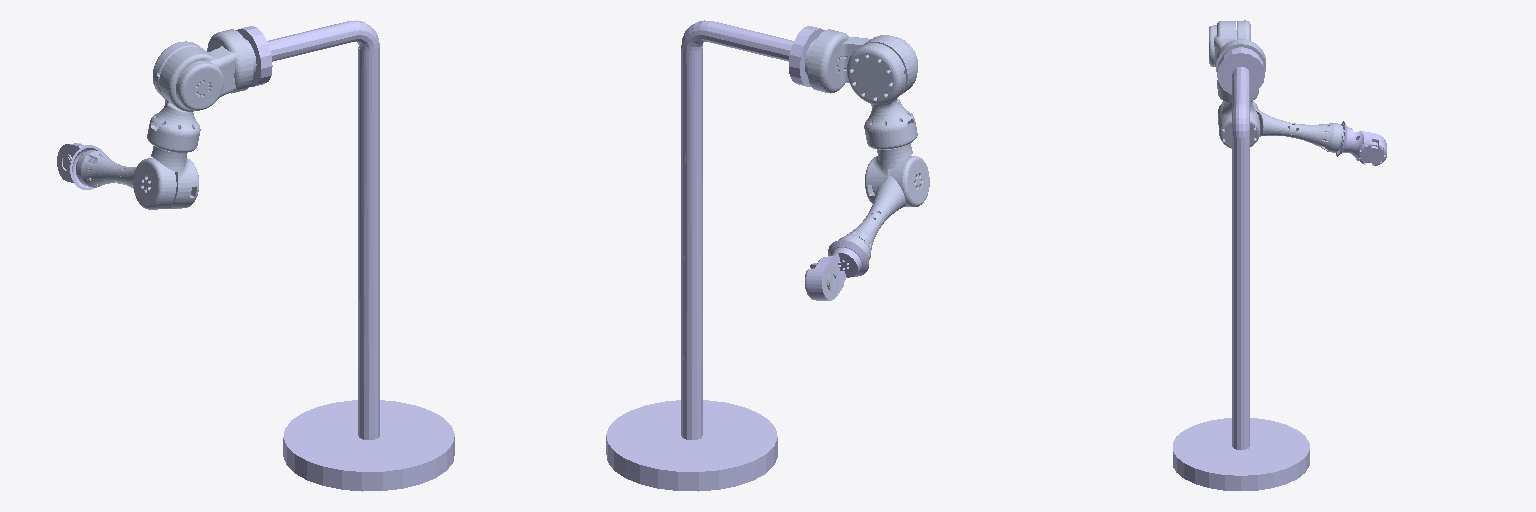
URDF robot description (humanoid_arm_5dof):
<?xml version="1.0" encoding="utf-8"?>
<robot name="humanoid_arm_5dof">
  <link name="base_link">
    <inertial>
      <origin
        xyz="-0.024994 0 0.26232"
        rpy="0 0 0" />
      <mass
        value="400" />
      <inertia
        ixx="1.5195"
        ixy="1.3429E-18"
        ixz="0.19574"
        iyy="1.5765"
        iyz="-8.9523E-18"
        izz="0.18464" />
    </inertial>
    <visual>
      <origin
        xyz="0 0 0"
        rpy="0 0 0" />
      <geometry>
        <mesh
          filename="package://humanoid_arm_5dof/meshes/suport.STL" />
      </geometry>
      <material
        name="">
        <color
          rgba="0.82353 0.82353 1 1" />
      </material>
    </visual>
    <collision>
      <origin
        xyz="0 0 0"
        rpy="0 0 0" />
      <geometry>
        <mesh
          filename="package://humanoid_arm_5dof/meshes/suport.STL" />
      </geometry>
    </collision>
  </link>
  <link name="shoulder_motor_link">
    <inertial>
      <origin
        xyz="0.0243243517152052 0 0"
        rpy="0 0 0" />
      <mass
        value="0.532509536641061" />
      <inertia
        ixx="0.000896146800566172"
        ixy="7.65326457438951E-19"
        ixz="5.78067703056341E-21"
        iyy="0.000557965001798214"
        iyz="-2.71050543121376E-20"
        izz="0.000557965001798214" />
    </inertial>
    <visual>
      <origin
        xyz="0 0 0"
        rpy="0 0 0" />
      <geometry>
        <mesh
          filename="package://humanoid_arm_5dof/meshes/pmotor1.STL" />
      </geometry>
      <material
        name="">
        <color
          rgba="0.792156862745098 0.819607843137255 0.933333333333333 1" />
      </material>
    </visual>
    <collision>
      <origin
        xyz="0 0 0"
        rpy="0 0 0" />
      <geometry>
        <mesh
          filename="package://humanoid_arm_5dof/meshes/pmotor1.STL" />
      </geometry>
    </collision>
  </link>
  <joint name="shoulder_motor_mount_joint" type="fixed">
    <origin
      xyz="-0.3827 0 1.0987"
      rpy="0.018231 0 0" />
    <parent link="base_link"/>
    <child link="shoulder_motor_link"/>
    <axis
      xyz="0 0 0" />
  </joint>
  <link name="upper_arm_link">
    <inertial>
      <origin
        xyz="-0.0509057984087349 -0.0396720299469153 -4.4229364353221E-06"
        rpy="0 0 0" />
      <mass
        value="1.20124643575938" />
      <inertia
        ixx="0.00348505331685035"
        ixy="-0.00165216394353781"
        ixz="2.67939253448173E-07"
        iyy="0.00605759008406016"
        iyz="1.08709312370402E-07"
        izz="0.00617091360181918" />
    </inertial>
    <visual>
      <origin
        xyz="0 0 0"
        rpy="0 0 0" />
      <geometry>
        <mesh
          filename="package://humanoid_arm_5dof/meshes/umar1.STL" />
      </geometry>
      <material
        name="">
        <color
          rgba="0.792156862745098 0.819607843137255 0.933333333333333 1" />
      </material>
    </visual>
    <collision>
      <origin
        xyz="0 0 0"
        rpy="0 0 0" />
      <geometry>
        <mesh
          filename="package://humanoid_arm_5dof/meshes/umar1.STL" />
      </geometry>
    </collision>
  </link>
  <joint name="base_rotation_joint" type="revolute">
    <origin
      xyz="-0.0175 0 0"
      rpy="0 0 0" />
    <parent link="shoulder_motor_link"/>
    <child link="upper_arm_link"/>
    <axis
      xyz="1 0 0" />
    <limit
      lower="-3.14"
      upper="3.14"
      effort="120"
      velocity="3" />
    <safety_controller
      soft_upper_limit="3.14"
      soft_lower_limit="-3.14"
      k_velocity="0" />
  </joint>
  <link name="shoulder_pitch_motor_link">
    <inertial>
      <origin
        xyz="0 0.0243243517152051 4.44089209850063E-16"
        rpy="0 0 0" />
      <mass
        value="0.532509536641061" />
      <inertia
        ixx="0.000557965001798215"
        ixy="-1.24833103737913E-19"
        ixz="-3.47612311997922E-20"
        iyy="0.000896146800566172"
        iyz="-4.40457132572236E-20"
        izz="0.000557965001798215" />
    </inertial>
    <visual>
      <origin
        xyz="0 0 0"
        rpy="0 0 0" />
      <geometry>
        <mesh
          filename="package://humanoid_arm_5dof/meshes/pmotor2.STL" />
      </geometry>
      <material
        name="">
        <color
          rgba="0.792156862745098 0.819607843137255 0.933333333333333 1" />
      </material>
    </visual>
    <collision>
      <origin
        xyz="0 0 0"
        rpy="0 0 0" />
      <geometry>
        <mesh
          filename="package://humanoid_arm_5dof/meshes/pmotor2.STL" />
      </geometry>
    </collision>
  </link>
  <joint name="shoulder_pitch_joint" type="revolute">
    <origin
      xyz="-0.0992 -0.0527 0"
      rpy="0 0 0" />
    <parent link="upper_arm_link"/>
    <child link="shoulder_pitch_motor_link"/>
    <axis
      xyz="0 1 0" />
    <limit
      lower="-0.55"
      upper="3.1"
      effort="120"
      velocity="3" />
    <safety_controller
      soft_upper_limit="3.1"
      soft_lower_limit="-0.55"
      k_velocity="0" />
  </joint>
  <link name="forearm_link">
    <inertial>
      <origin
        xyz="-0.000514440092235335 0.0143797752068014 0.0237335051671055"
        rpy="0 0 0" />
      <mass
        value="0.973351849869395" />
      <inertia
        ixx="0.00511269011442378"
        ixy="-3.42392056381466E-06"
        ixz="2.69291498275984E-05"
        iyy="0.00564141880545679"
        iyz="-0.000614155352552255"
        izz="0.00166819885883731" />
    </inertial>
    <visual>
      <origin
        xyz="0 0 0"
        rpy="0 0 0" />
      <geometry>
        <mesh
          filename="package://humanoid_arm_5dof/meshes/umar2.STL" />
      </geometry>
      <material
        name="">
        <color
          rgba="0.792156862745098 0.819607843137255 0.933333333333333 1" />
      </material>
    </visual>
    <collision>
      <origin
        xyz="0 0 0"
        rpy="0 0 0" />
      <geometry>
        <mesh
          filename="package://humanoid_arm_5dof/meshes/umar2.STL" />
      </geometry>
    </collision>
  </link>
  <joint name="forearm_mount_joint" type="fixed">
    <origin
      xyz="-0.016217 0.0397 -0.07576"
      rpy="0 0.21056 0" />
    <parent link="shoulder_pitch_motor_link"/>
    <child link="forearm_link"/>
    <axis
      xyz="0 0 0" />
    <limit
      lower="-1.57"
      upper="1.57"
      effort="0"
      velocity="0" />
  </joint>
  <link name="elbow_motor_link">
    <inertial>
      <origin
        xyz="-1.20675569450501E-05 -0.000785396018441256 0.027257965695012"
        rpy="0 0 0" />
      <mass
        value="0.360887409455794" />
      <inertia
        ixx="0.000278935913838484"
        ixy="-2.06010246975602E-07"
        ixz="-2.55321502584602E-08"
        iyy="0.000273885658331841"
        iyz="-2.48624895479077E-06"
        izz="0.000382815455821848" />
    </inertial>
    <visual>
      <origin
        xyz="0 0 0"
        rpy="0 0 0" />
      <geometry>
        <mesh
          filename="package://humanoid_arm_5dof/meshes/pmotor3.STL" />
      </geometry>
      <material
        name="">
        <color
          rgba="0.792156862745098 0.819607843137255 0.933333333333333 1" />
      </material>
    </visual>
    <collision>
      <origin
        xyz="0 0 0"
        rpy="0 0 0" />
      <geometry>
        <mesh
          filename="package://humanoid_arm_5dof/meshes/pmotor3.STL" />
      </geometry>
    </collision>
  </link>
  <joint name="elbow_motor_mount_joint" type="fixed">
    <origin
      xyz="0 0.002 -0.10002"
      rpy="-0.017845 0 0.040355" />
    <parent link="forearm_link"/>
    <child link="elbow_motor_link"/>
    <axis
      xyz="0 0 0" />
  </joint>
  <link name="elbow_flange_link">
    <inertial>
      <origin
        xyz="0.00116670382474426 -6.27956020515796E-11 0.00545877059772315"
        rpy="0 0 0" />
      <mass
        value="0.0361105497150978" />
      <inertia
        ixx="1.01535422247132E-05"
        ixy="-1.22213682639349E-07"
        ixz="1.86684214103761E-06"
        iyy="9.92336545082146E-06"
        iyz="2.61207556751279E-08"
        izz="1.84891176177678E-05" />
    </inertial>
    <visual>
      <origin
        xyz="0 0 0"
        rpy="0 0 0" />
      <geometry>
        <mesh
          filename="package://humanoid_arm_5dof/meshes/flansa .STL" />
      </geometry>
      <material
        name="">
        <color
          rgba="0.792156862745098 0.819607843137255 0.933333333333333 1" />
      </material>
    </visual>
    <collision>
      <origin
        xyz="0 0 0"
        rpy="0 0 0" />
      <geometry>
        <mesh
          filename="package://humanoid_arm_5dof/meshes/flansa .STL" />
      </geometry>
    </collision>
  </link>
  <joint name="elbow_pitch_joint" type="revolute">
    <origin
      xyz="0 0.00021413 -0.011998"
      rpy="0.018231 -0.20981 -0.044159" />
    <parent link="elbow_motor_link"/>
    <child link="elbow_flange_link"/>
    <axis
      xyz="-0.20901 0 -0.97791" />
    <limit
      lower="-3.14"
      upper="3.14"
      effort="60"
      velocity="1.6" />
  </joint>
  <link name="wrist_base_link">
    <inertial>
      <origin
        xyz="0.0275870325632882 0.000456266358311211 -0.0255871211461605"
        rpy="0 0 0" />
      <mass
        value="0.488307483069969" />
      <inertia
        ixx="0.00147006507522484"
        ixy="-4.65595546047694E-06"
        ixz="0.00027167450677181"
        iyy="0.00131739364749704"
        iyz="8.9484187724332E-06"
        izz="0.000811973910583158" />
    </inertial>
    <visual>
      <origin
        xyz="0 0 0"
        rpy="0 0 0" />
      <geometry>
        <mesh
          filename="package://humanoid_arm_5dof/meshes/cot1.STL" />
      </geometry>
      <material
        name="">
        <color
          rgba="0.792156862745098 0.819607843137255 0.933333333333333 1" />
      </material>
    </visual>
    <collision>
      <origin
        xyz="0 0 0"
        rpy="0 0 0" />
      <geometry>
        <mesh
          filename="package://humanoid_arm_5dof/meshes/cot1.STL" />
      </geometry>
    </collision>
  </link>
  <joint name="wrist_base_mount_joint" type="fixed">
    <origin
      xyz="-0.0076289 0 -0.035694"
      rpy="-0.0092227 0.21039 0.041266" />
    <parent link="elbow_flange_link"/>
    <child link="wrist_base_link"/>
    <axis
      xyz="0 0 0" />
    <limit
      lower="-3.14"
      upper="3.14"
      effort="60"
      velocity="1.6" />
  </joint>
  <link name="wrist_motor_link">
    <inertial>
      <origin
        xyz="0.0272676404708343 -3.23230331389368E-12 -0.000299114552538171"
        rpy="0 0 0" />
      <mass
        value="0.360887409455794" />
      <inertia
        ixx="0.000382869487141332"
        ixy="-5.86805229973612E-15"
        ixz="-5.4163761017029E-07"
        iyy="0.000278944249014422"
        iyz="-5.51485072039016E-14"
        izz="0.000273823291836418" />
    </inertial>
    <visual>
      <origin
        xyz="0 0 0"
        rpy="0 0 0" />
      <geometry>
        <mesh
          filename="package://humanoid_arm_5dof/meshes/pmotor4.STL" />
      </geometry>
      <material
        name="">
        <color
          rgba="0.792156862745098 0.819607843137255 0.933333333333333 1" />
      </material>
    </visual>
    <collision>
      <origin
        xyz="0 0 0"
        rpy="0 0 0" />
      <geometry>
        <mesh
          filename="package://humanoid_arm_5dof/meshes/pmotor4.STL" />
      </geometry>
    </collision>
  </link>
  <joint name="wrist_motor_mount_joint" type="fixed">
    <origin
      xyz="-0.0025 0.00085117 -0.047692"
      rpy="0.017845 0 0" />
    <parent link="wrist_base_link"/>
    <child link="wrist_motor_link"/>
    <axis
      xyz="0 0 0" />
  </joint>
  <link name="wrist_pitch_link">
    <inertial>
      <origin
        xyz="-0.0168411101625994 0.0319189691211335 0.000336872868540894"
        rpy="0 0 0" />
      <mass
        value="0.712349677072855" />
      <inertia
        ixx="0.00274213383054037"
        ixy="-0.000360585785123124"
        ixz="-4.0408551100849E-06"
        iyy="0.000686221353304623"
        iyz="-2.99782183377003E-05"
        izz="0.00245236142748917" />
    </inertial>
    <visual>
      <origin
        xyz="0 0 0"
        rpy="0 0 0" />
      <geometry>
        <mesh
          filename="package://humanoid_arm_5dof/meshes/cot2.STL" />
      </geometry>
      <material
        name="">
        <color
          rgba="0.792156862745098 0.819607843137255 0.933333333333333 1" />
      </material>
    </visual>
    <collision>
      <origin
        xyz="0 0 0"
        rpy="0 0 0" />
      <geometry>
        <mesh
          filename="package://humanoid_arm_5dof/meshes/cot2.STL" />
      </geometry>
    </collision>
  </link>
  <joint name="wrist_pitch_joint" type="revolute">
    <origin
      xyz="0 0 0"
      rpy="-0.2706 0 0" />
    <parent link="wrist_motor_link"/>
    <child link="wrist_pitch_link"/>
    <axis
      xyz="-1 0 0" />
    <limit
      lower="-0.31"
      upper="2.8"
      effort="60"
      velocity="1.6" />
    <safety_controller
      soft_upper_limit="2.8"
      soft_lower_limit="-0.31"
      k_velocity="0" />
  </joint>
  <link name="wrist_assembly_link">
    <inertial>
      <origin
        xyz="-3.21210067431021E-05 0.0482626493278655 0.00930988660267218"
        rpy="0 0 0" />
      <mass
        value="0.252087613812296" />
      <inertia
        ixx="0.000386568084282558"
        ixy="2.73707509277677E-07"
        ixz="-3.07646788142713E-06"
        iyy="0.000148260685924684"
        iyz="-1.70698355727776E-05"
        izz="0.000386791416540263" />
    </inertial>
    <visual>
      <origin
        xyz="0 0 0"
        rpy="0 0 0" />
      <geometry>
        <mesh
          filename="package://humanoid_arm_5dof/meshes/cot3.STL" />
      </geometry>
      <material
        name="">
        <color
          rgba="0.792156862745098 0.819607843137255 0.933333333333333 1" />
      </material>
    </visual>
    <collision>
      <origin
        xyz="0 0 0"
        rpy="0 0 0" />
      <geometry>
        <mesh
          filename="package://humanoid_arm_5dof/meshes/cot3.STL" />
      </geometry>
    </collision>
  </link>
  <joint name="wrist_assembly_joint" type="fixed">
    <origin
      xyz="0 0.17928 -0.010221"
      rpy="0 0 0" />
    <parent link="wrist_pitch_link"/>
    <child link="wrist_assembly_link"/>
    <axis
      xyz="0 0 0" />
  </joint>
  <link name="wrist_roll_motor_link">
    <inertial>
      <origin
        xyz="-2.22044604925031E-16 -0.022658467867997 -8.88178419700125E-16"
        rpy="0 0 0" />
      <mass
        value="0.184647500913822" />
      <inertia
        ixx="9.04144135943578E-05"
        ixy="2.2446373102239E-20"
        ixz="1.01643953670516E-20"
        iyy="0.00012896778778608"
        iyz="1.35525271560688E-20"
        izz="9.04144135943578E-05" />
    </inertial>
    <visual>
      <origin
        xyz="0 0 0"
        rpy="0 0 0" />
      <geometry>
        <mesh
          filename="package://humanoid_arm_5dof/meshes/pmotor5.STL" />
      </geometry>
      <material
        name="">
        <color
          rgba="0.792156862745098 0.819607843137255 0.933333333333333 1" />
      </material>
    </visual>
    <collision>
      <origin
        xyz="0 0 0"
        rpy="0 0 0" />
      <geometry>
        <mesh
          filename="package://humanoid_arm_5dof/meshes/pmotor5.STL" />
      </geometry>
    </collision>
  </link>
  <joint name="wrist_roll_motor_mount_joint" type="fixed">
    <origin
      xyz="0 0.12622 0.010221"
      rpy="0 0 0" />
    <parent link="wrist_assembly_link"/>
    <child link="wrist_roll_motor_link"/>
    <axis
      xyz="0 0 0" />
  </joint>
  <link name="end_effector_link">
    <inertial>
      <origin
        xyz="0.0177294335201367 0.024115357060854 9.0674231068899E-05"
        rpy="0 0 0" />
      <mass
        value="0.270547651840176" />
      <inertia
        ixx="0.000584531523502896"
        ixy="-0.000153360729551245"
        ixz="-6.73620480104151E-07"
        iyy="0.000292116186966144"
        iyz="-1.01904271471951E-06"
        izz="0.000574918124436289" />
    </inertial>
    <visual>
      <origin
        xyz="0 0 0"
        rpy="0 0 0" />
      <geometry>
        <mesh
          filename="package://humanoid_arm_5dof/meshes/incheietura.STL" />
      </geometry>
      <material
        name="">
        <color
          rgba="0.823529411764706 0.823529411764706 1 1" />
      </material>
    </visual>
    <collision>
      <origin
        xyz="0 0 0"
        rpy="0 0 0" />
      <geometry>
        <mesh
          filename="package://humanoid_arm_5dof/meshes/incheietura.STL" />
      </geometry>
    </collision>
  </link>
  <joint name="wrist_roll_joint" type="revolute">
    <origin
      xyz="0 0.026284 0"
      rpy="0 -0.012912 0" />
    <parent link="wrist_roll_motor_link"/>
    <child link="end_effector_link"/>
    <axis
      xyz="0 -1 0" />
    <limit
      lower="-3.14"
      upper="3.14"
      effort="17"
      velocity="0.8" />
    <safety_controller
      soft_upper_limit="3.14"
      soft_lower_limit="-3.14"
      k_velocity="0" />
  </joint>
  <link name="end_motor_link">
    <inertial>
      <origin
        xyz="0.0226584678679964 1.11022302462516E-16 -6.66133814775094E-16"
        rpy="0 0 0" />
      <mass
        value="0.184647500913822" />
      <inertia
        ixx="0.00012896778778608"
        ixy="2.72241683203452E-20"
        ixz="-1.18584612615602E-20"
        iyy="9.04144135943577E-05"
        iyz="5.34689547954277E-21"
        izz="9.04144135943578E-05" />
    </inertial>
    <visual>
      <origin
        xyz="0 0 0"
        rpy="0 0 0" />
      <geometry>
        <mesh
          filename="package://humanoid_arm_5dof/meshes/pmotor6.STL" />
      </geometry>
      <material
        name="">
        <color
          rgba="0.792156862745098 0.819607843137255 0.933333333333333 1" />
      </material>
    </visual>
    <collision>
      <origin
        xyz="0 0 0"
        rpy="0 0 0" />
      <geometry>
        <mesh
          filename="package://humanoid_arm_5dof/meshes/pmotor6.STL" />
      </geometry>
    </collision>
  </link>
  <joint name="end_motor_mount_joint" type="fixed">
    <origin
      xyz="0 0.06534 0"
      rpy="0.25218 0 0" />
    <parent link="end_effector_link"/>
    <child link="end_motor_link"/>
    <axis
      xyz="0 0 0" />
  </joint>
</robot>

--- What the picture shows (computed from the rendered views, not written in the file) ---
3 views of the same robot in one strip: view 1: azimuth 30°, elevation 25°; view 2: azimuth 150°, elevation 25°; view 3: azimuth 270°, elevation 25° (orthographic).
Model humanoid_arm_5dof with 14 links and 13 joints (5 revolute, 8 fixed), rooted at base_link, posed all joints at 0.
Links seen in each view (by area): view 1: base_link, upper_arm_link, forearm_link, wrist_pitch_link, wrist_base_link, wrist_assembly_link, end_effector_link; view 2: base_link, forearm_link, upper_arm_link, wrist_pitch_link, end_effector_link, wrist_base_link, wrist_assembly_link; view 3: base_link, end_effector_link, upper_arm_link, wrist_assembly_link, wrist_base_link, wrist_pitch_link.
Link boxes in pixels (x1,y1,x2,y2): base_link: (236, 20, 454, 491); upper_arm_link: (159, 29, 252, 111); forearm_link: (147, 41, 202, 152); wrist_pitch_link: (111, 158, 176, 209); wrist_base_link: (151, 146, 198, 208); wrist_assembly_link: (76, 150, 124, 187); end_effector_link: (57, 143, 103, 189); base_link: (606, 20, 824, 491); forearm_link: (847, 43, 917, 149); upper_arm_link: (808, 29, 917, 94); wrist_pitch_link: (863, 156, 929, 226); end_effector_link: (805, 240, 868, 300); wrist_base_link: (865, 143, 912, 203); wrist_assembly_link: (839, 216, 885, 259); base_link: (1173, 49, 1309, 490); end_effector_link: (1336, 121, 1386, 165); upper_arm_link: (1209, 21, 1265, 71); wrist_assembly_link: (1284, 123, 1341, 152); wrist_base_link: (1218, 101, 1259, 148); wrist_pitch_link: (1218, 101, 1300, 136).
Size in the robot's own frame: 0.8401 by 0.6227 by 1.17 metres.
Meshes: 14 distinct files referenced, 14 mesh visuals loaded (14 binary STL).
